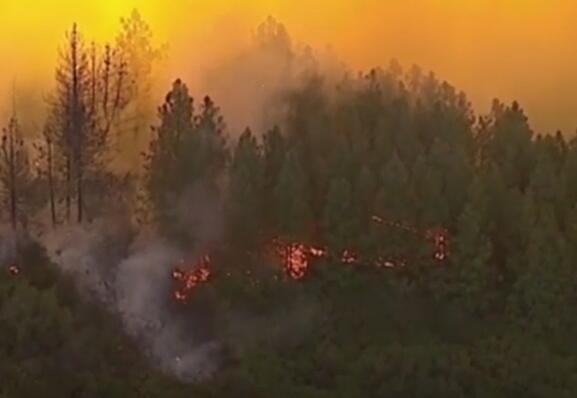fire: (169, 210, 454, 300)
yanwu: (11, 0, 342, 156), (1, 202, 215, 376)
